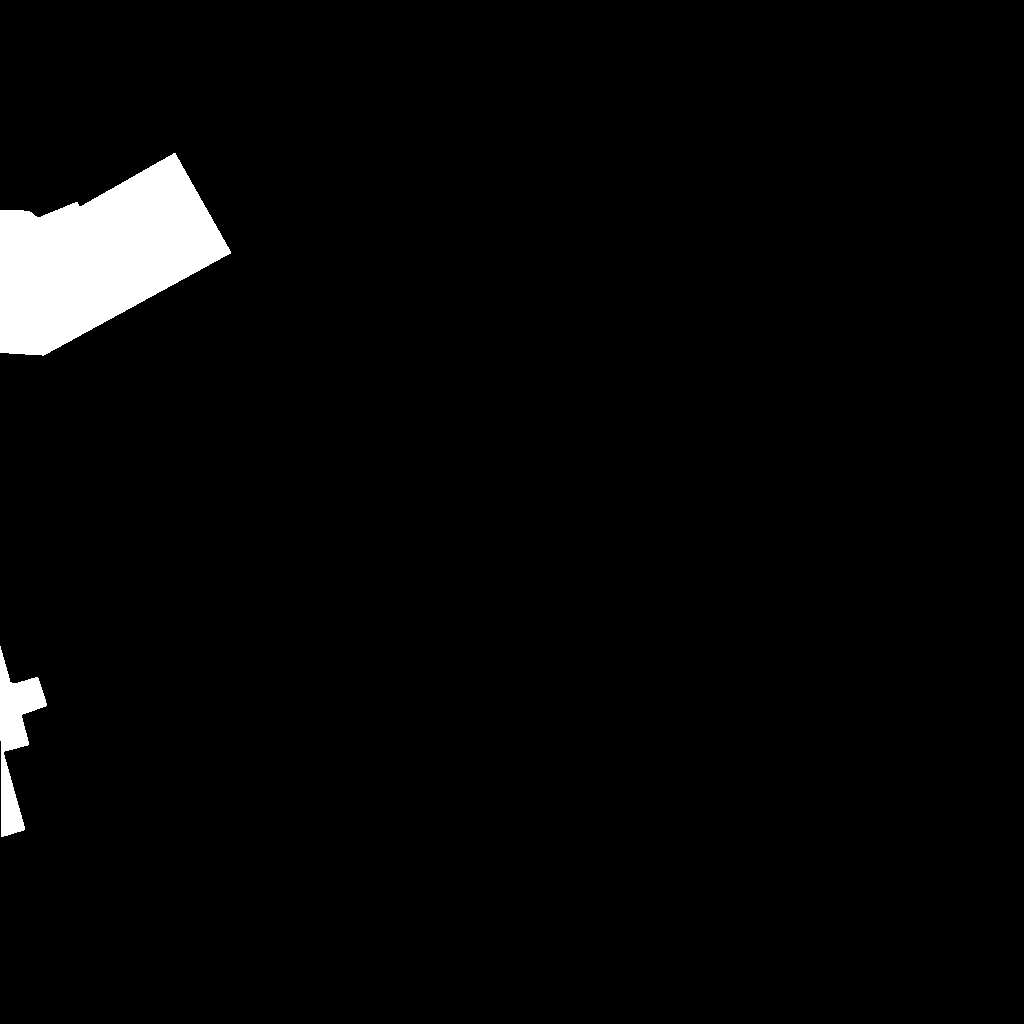building: (0, 153, 232, 356), (0, 645, 48, 838)
